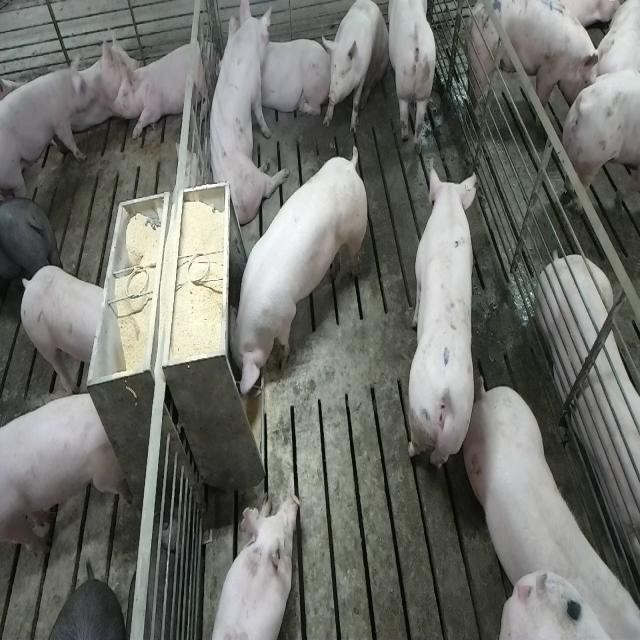Feeding: (220, 147, 364, 399)
Sitting: (202, 5, 285, 226), (324, 0, 388, 136)
Standing: (406, 164, 478, 478), (1, 386, 126, 566), (463, 0, 594, 132), (552, 70, 640, 225), (3, 60, 97, 204), (18, 266, 105, 398), (384, 2, 438, 155), (0, 190, 59, 308)
Sternal_lying: (537, 251, 640, 576), (207, 490, 299, 640), (115, 30, 215, 141), (256, 34, 329, 123)
